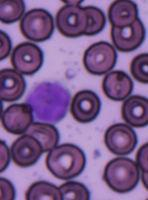L: (25, 78, 72, 124)
